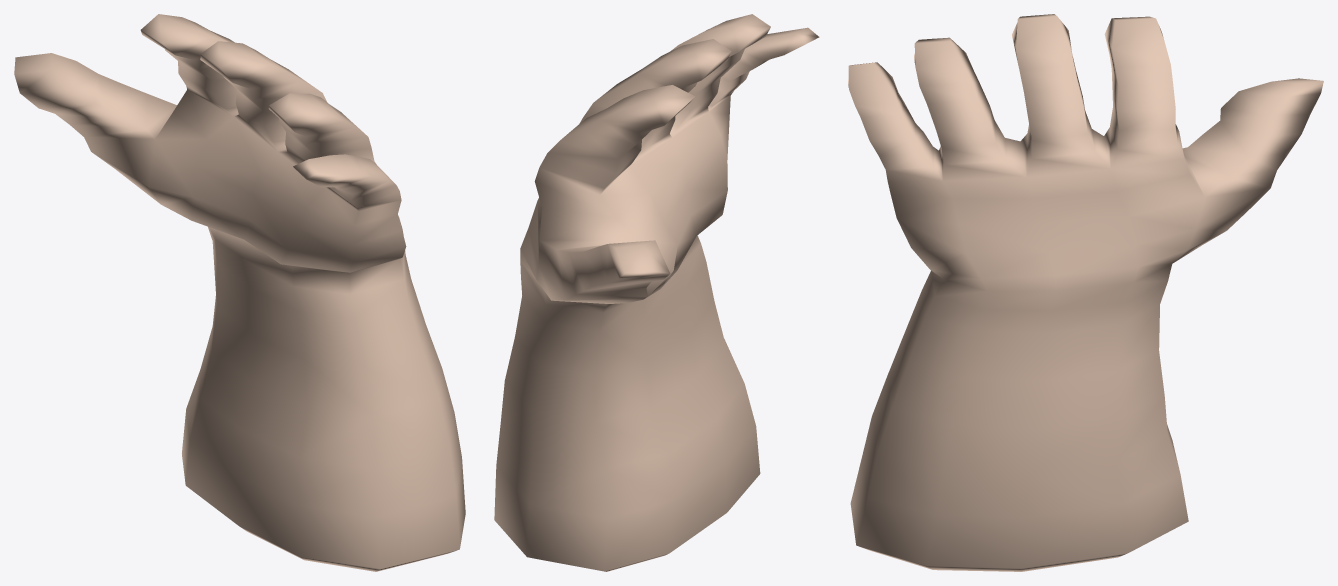
File: Handboy.fbx
3 renders of one model, left to right at view 1: azimuth 30°, elevation 25°; view 2: azimuth 150°, elevation 25°; view 3: azimuth 270°, elevation 25°, orthographic. The views are drawn at different scales.
Visible parts, largest first — view 1: hand_basemesh; view 2: hand_basemesh; view 3: hand_basemesh.
Part boxes in pixels (box(x1,y1,x2,y2)): hand_basemesh: box(14, 14, 465, 571); hand_basemesh: box(494, 14, 819, 571); hand_basemesh: box(848, 14, 1323, 571).
Size of the model in its own units: 11.44 by 18.92 by 17.32.
